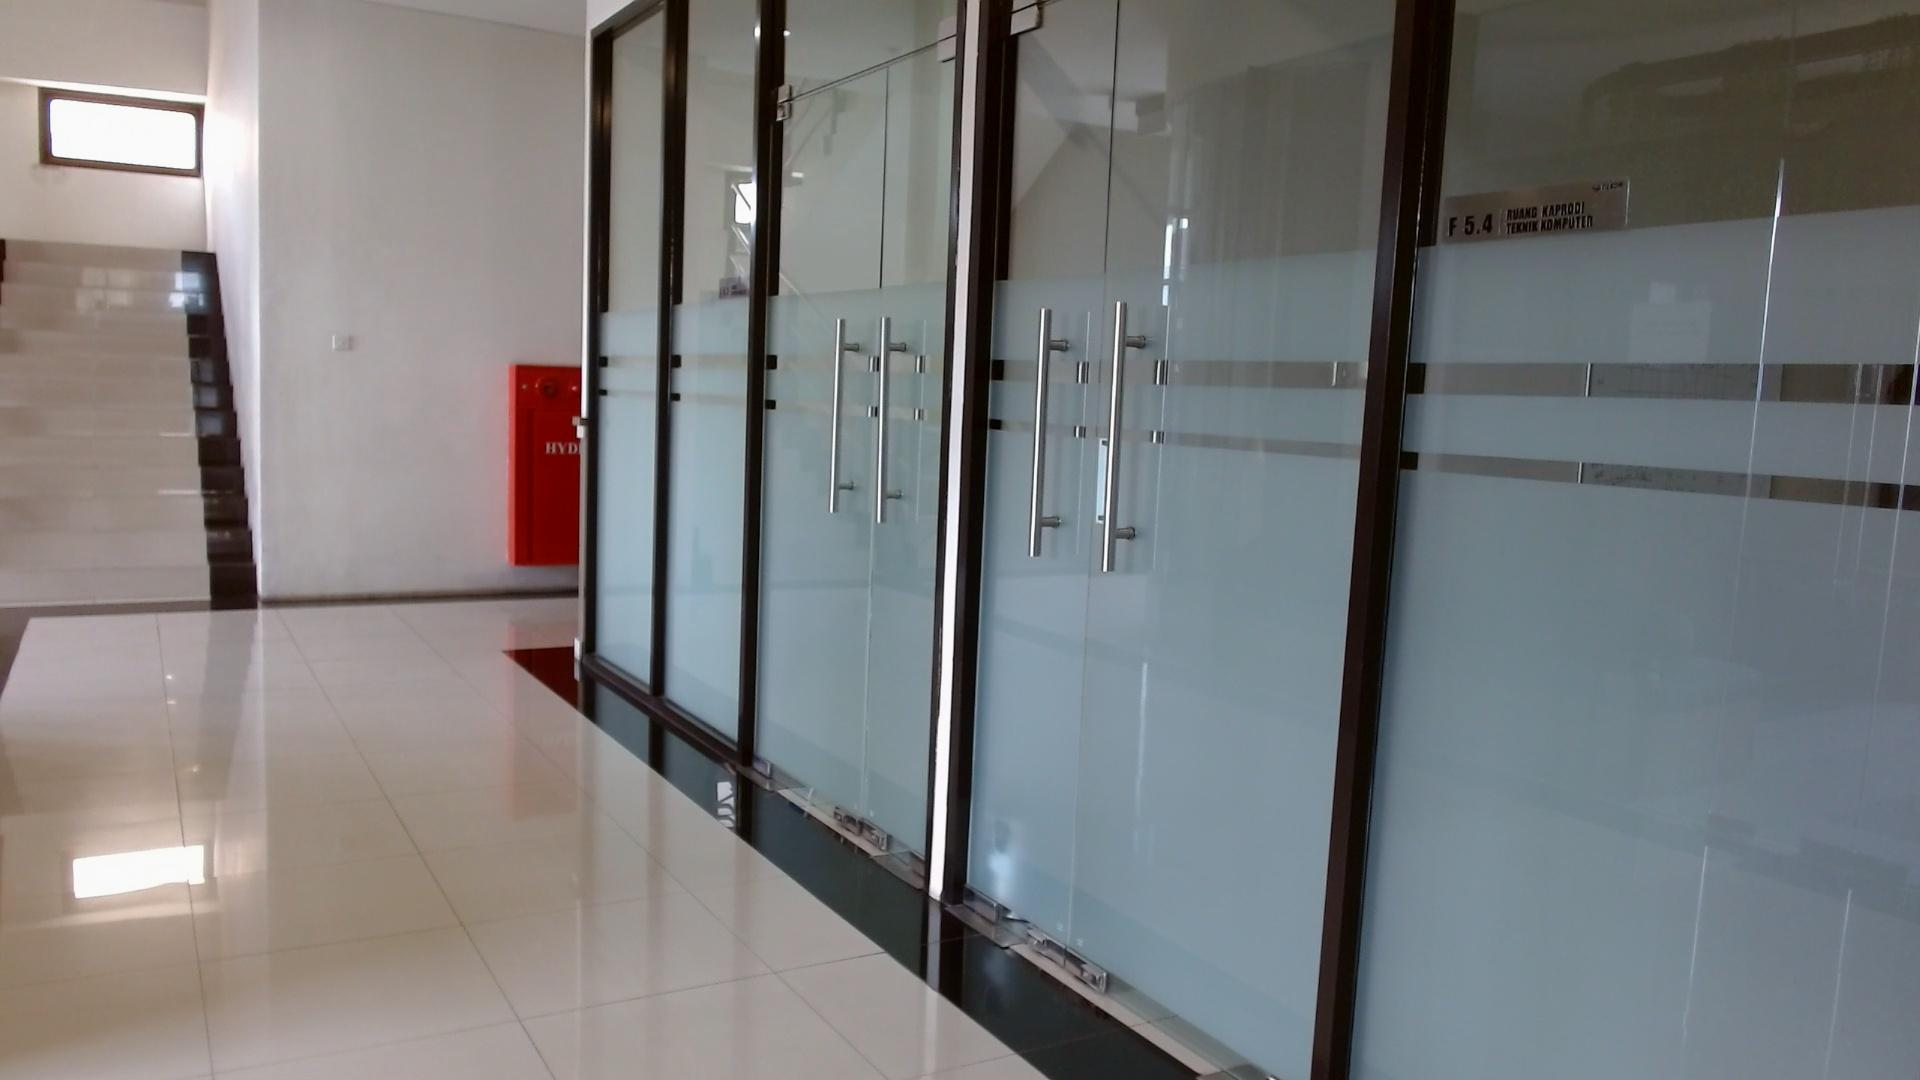plate: (1440, 177, 1630, 245)
